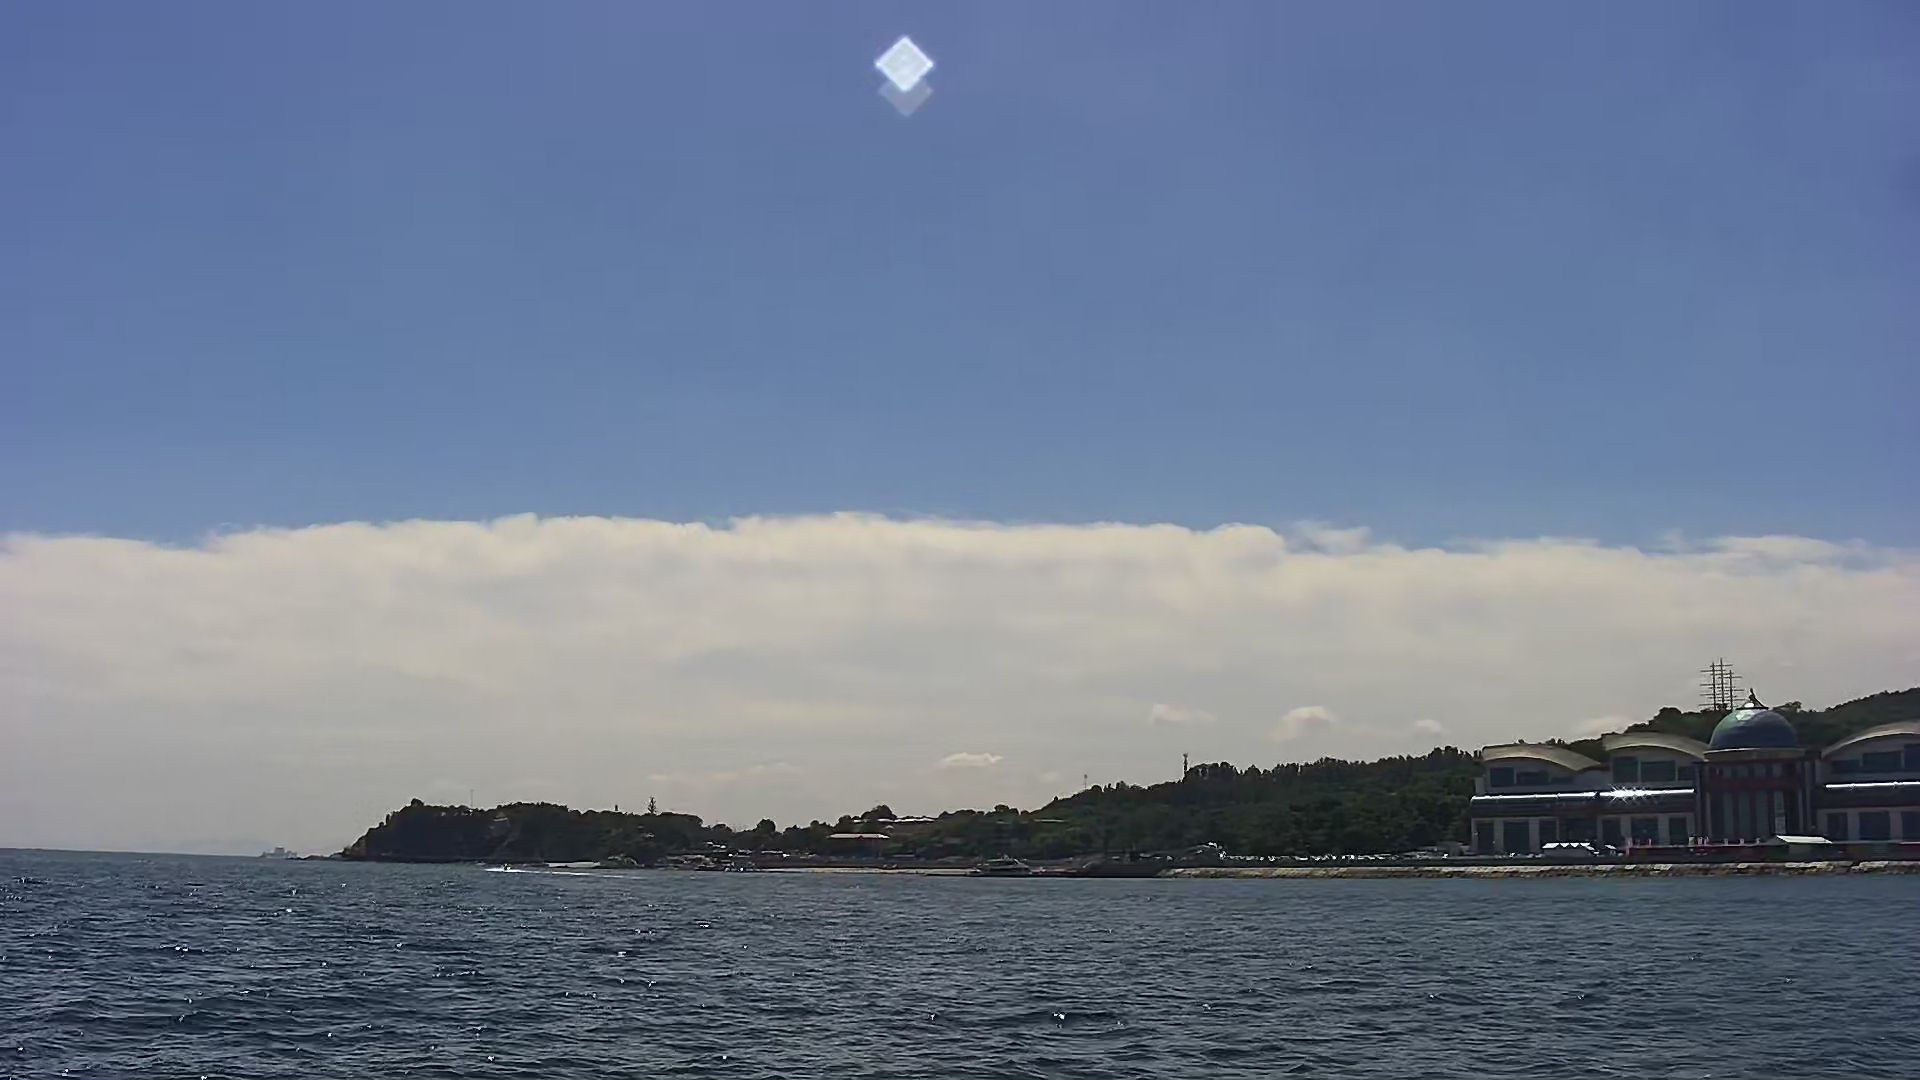boat: (1060, 844, 1189, 891), (964, 852, 1039, 882)
